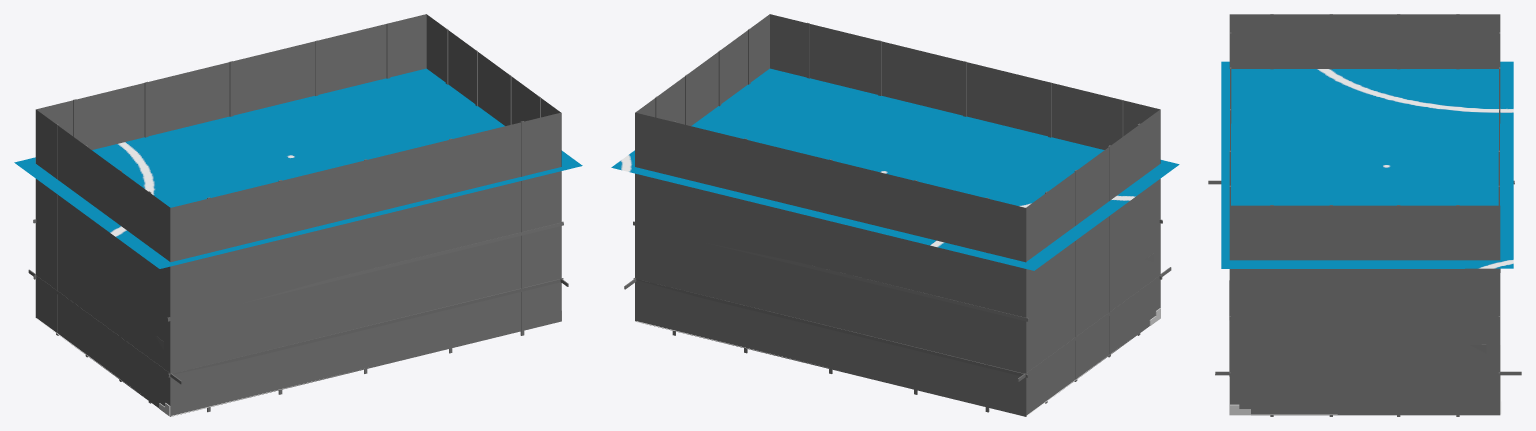
Rendered from Arena.fbx.
3 views of the same model, side by side, from view 1: azimuth 30°, elevation 25°; view 2: azimuth 150°, elevation 25°; view 3: azimuth 270°, elevation 25° (orthographic).
Visible parts, largest first — view 1: Crowd Wall, Ceiling, Home Wall, Doors Wall, Away Wall; view 2: Doors Wall, Ceiling, Home Wall, Crowd Wall, Away Wall; view 3: Away Wall, Ceiling, Home Wall, Crowd Wall, Doors Wall.
Part boxes in pixels (x1,y1,x2,y2): Crowd Wall: [167, 112, 563, 416]; Ceiling: [14, 68, 582, 268]; Home Wall: [28, 109, 182, 407]; Doors Wall: [33, 14, 426, 317]; Away Wall: [426, 14, 568, 321]; Doors Wall: [633, 112, 1028, 416]; Ceiling: [611, 68, 1179, 270]; Home Wall: [1017, 110, 1171, 416]; Crowd Wall: [770, 14, 1162, 307]; Away Wall: [624, 14, 769, 289]; Away Wall: [1215, 205, 1521, 416]; Ceiling: [1221, 61, 1513, 268]; Home Wall: [1208, 14, 1514, 184]; Crowd Wall: [1229, 32, 1231, 376]; Doors Wall: [1498, 32, 1500, 376].
Size of the model in its own units: 11435 by 5523 by 7305.
